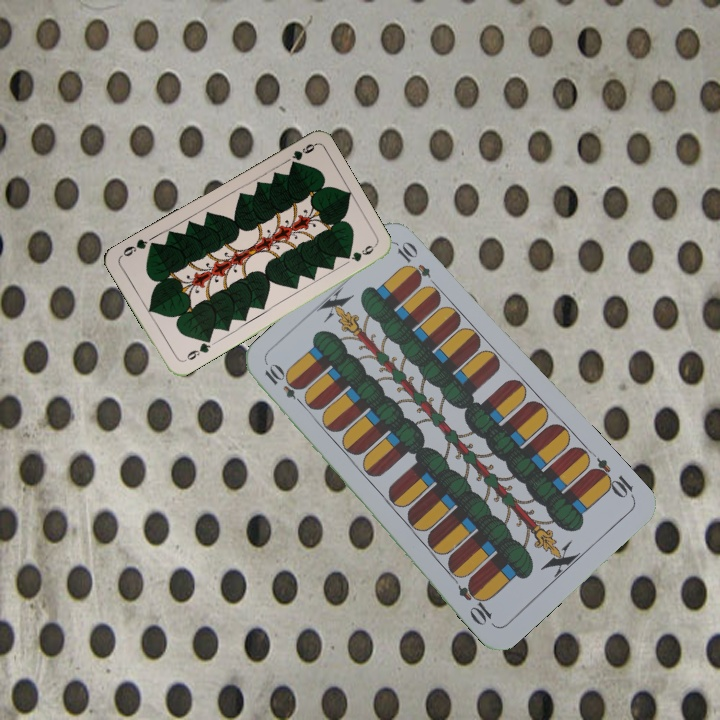E10: (586, 454, 638, 502), (260, 361, 309, 410)
G9: (178, 334, 213, 365), (287, 139, 318, 168)
